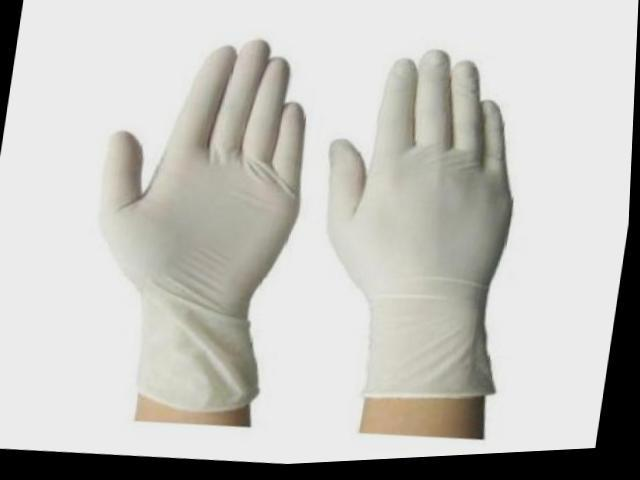Hand-in-Glove: (292, 31, 584, 457), (57, 21, 337, 438)
